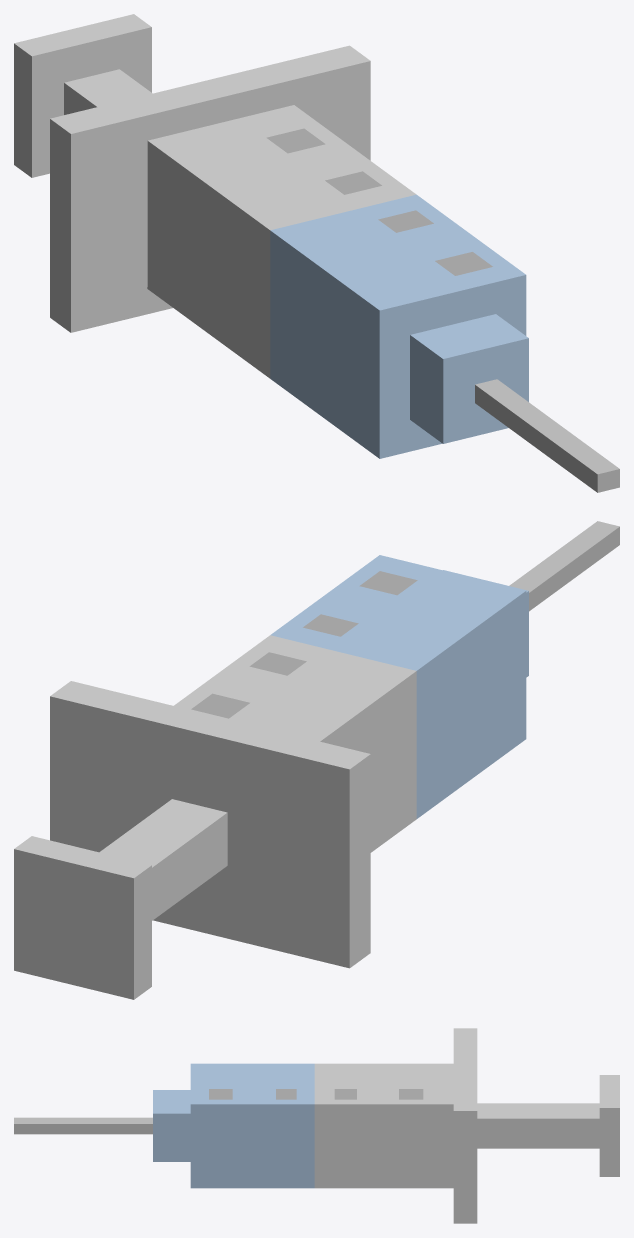
Rendered from syringe_1.fbx.
The picture shows the model from 3 angles, top to bottom: view 1: azimuth 30°, elevation 25°; view 2: azimuth 150°, elevation 25°; view 3: azimuth 270°, elevation 25°; orthographic projection. The views are drawn at different scales.
Parts seen in each view (by area): view 1: Cube_43_1; view 2: Cube_43_1; view 3: Cube_43_1.
Part boxes in pixels (x1,y1,x2,y2): Cube_43_1: (14,14,619,492); Cube_43_1: (14,521,619,999); Cube_43_1: (14,1028,619,1223).
Bounding box in the file's own units: 4.35 × 2.76 × 13.43.
